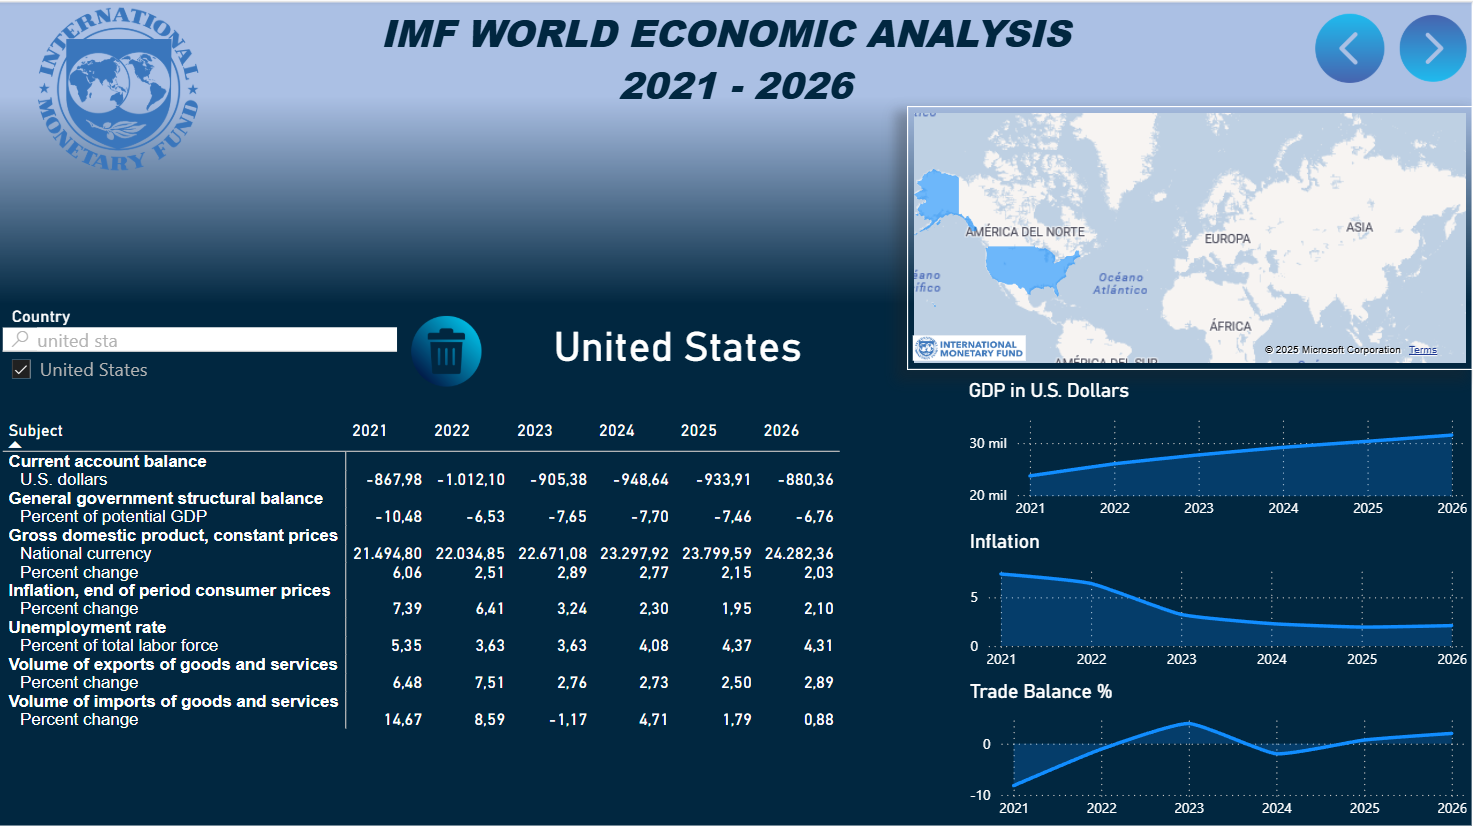

Layout of this report page (visuals, bound fields, positions):
{"tool":"powerbi","page":{"name":"Página 1","canvas":[1280,720],"ordinal":1},"visuals":[{"type":"filledMap","fields":{"Category":["Country.Country"]},"box":[789.4,91.1,491,229],"z":0},{"type":"card","fields":{"Values":["Min(Country.Country)"]},"box":[360,251.6,461.5,89.3],"z":1000},{"type":"pivotTable","fields":{"Rows":["Subject.Subject","Big Data.Units"],"Columns":["Calendar.Year"],"Values":["Sum(Big Data.Results)"]},"box":[0,359.5,837.9,360.5],"z":2000},{"type":"lineChart","title":"GDP in U.S. Dollars","fields":{"Y":["Sum(GDP USD.Valor)"],"Category":["GDP USD.Year"]},"box":[837.9,328.1,442.1,130.7],"z":3000},{"type":"lineChart","title":"Inflation","fields":{"Y":["Sum(Inflation.Results)"],"Category":["Calendar.Date.Variación.Jerarquía de fechas.Año"]},"box":[838.9,458.8,441.1,130.7],"z":4000},{"type":"lineChart","title":"Trade Balance %","fields":{"Y":["Big Data.Trade Balance"],"Category":["Calendar.Date.Variación.Jerarquía de fechas.Año"]},"box":[838.9,589.4,441.1,129.7],"z":5000},{"type":"textbox","box":[328.1,0,624.8,107.1],"z":6000},{"type":"image","box":[0,0,209.2,152.3],"z":7000},{"type":"image","box":[789.4,281.1,107.6,39],"z":8000},{"type":"slicer","fields":{"Values":["Country.Country"]},"box":[0,260.3,351.7,80.6],"z":9000},{"type":"image","box":[1211.9,6.1,67.7,70.3],"z":10000},{"type":"image","box":[1135.5,6.1,76.3,70.3],"z":11000},{"type":"image","box":[351.3,266.3,77.2,74.6],"z":12000}]}

Visuals, with their boxes in screenshot pixels (x1, y1, x2, y2), scaled from the page's 1280x720 canvas onto the 1473x826 screenshot:
filledMap - Country.Country: 908,105,1472,367
card - Min(Country.Country): 414,289,945,391
pivotTable - Subject.Subject x Big Data.Units: 0,412,964,825
"GDP in U.S. Dollars" lineChart: 964,376,1472,526
"Inflation" lineChart: 965,526,1472,676
"Trade Balance %" lineChart: 965,676,1472,825
textbox: 378,0,1097,123
image: 0,0,241,175
image: 908,322,1032,367
slicer - Country.Country: 0,299,405,391
image: 1395,7,1472,88
image: 1307,7,1395,88
image: 404,306,493,391
